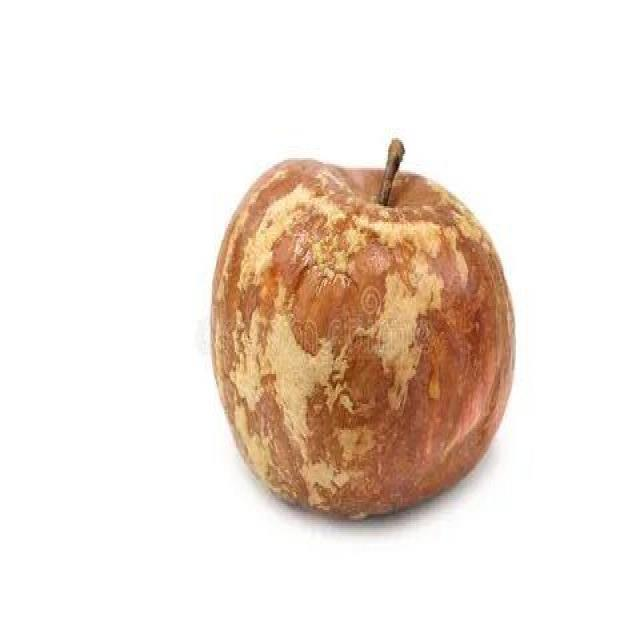Rotten: (215, 150, 488, 522)
